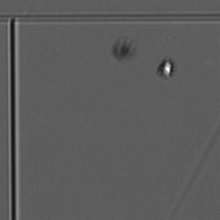Dead Cell: (112, 39, 137, 60)
Living Cell: (157, 56, 177, 79)
